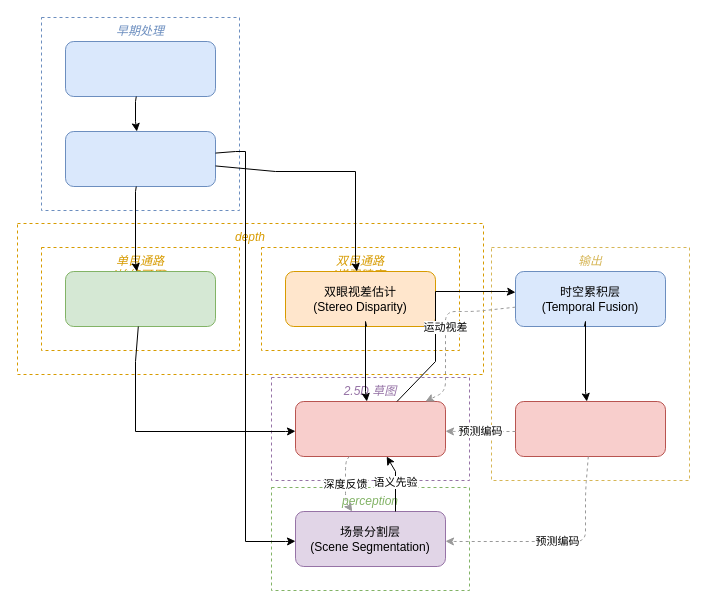
The diagram is 707 pixels wide and 608 high, and some of its shapes have lost their labels. Here are the shapes that lost their labels. From the top down, the centre of each, then its label:
At (x=140, y=68): "单眼特征层 (Monocular Feature)".
At (x=140, y=158): "知觉组织层 (Perceptual Grouping)".
At (x=140, y=298): "单目深度线索 (Monocular Cues)".
At (x=370, y=428): "深度融合层 (Depth Fusion)".
At (x=590, y=428): "三维重建层 (3D Reconstruction)".
